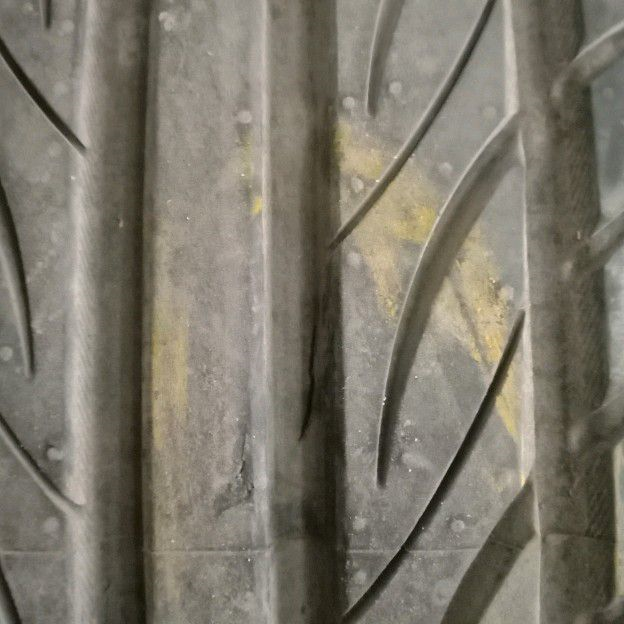tr: (293, 276, 322, 448)
